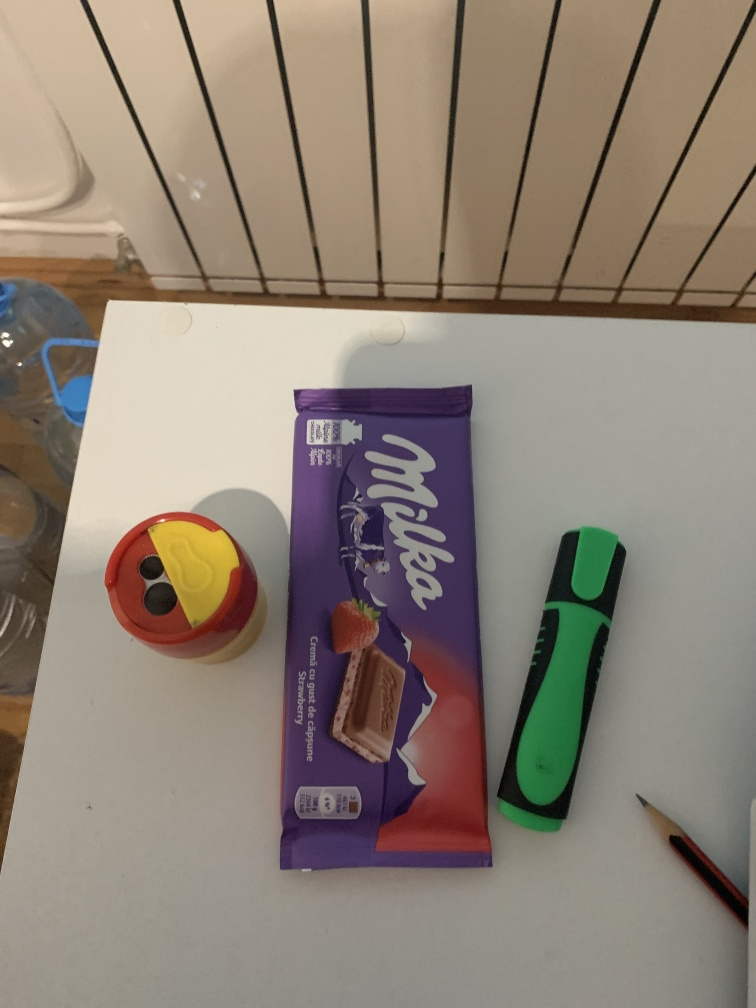milka: (274, 384, 496, 874)
